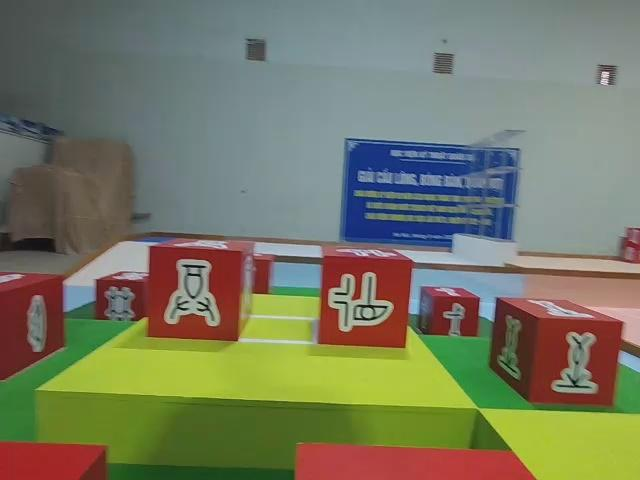R2 Real: (487, 294, 625, 409), (147, 233, 257, 344), (315, 240, 415, 350), (0, 269, 66, 381), (418, 282, 482, 340), (94, 268, 159, 323)
